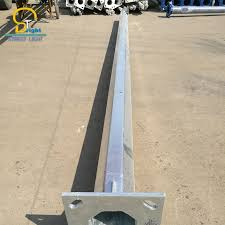light_pole: (86, 9, 152, 224)
